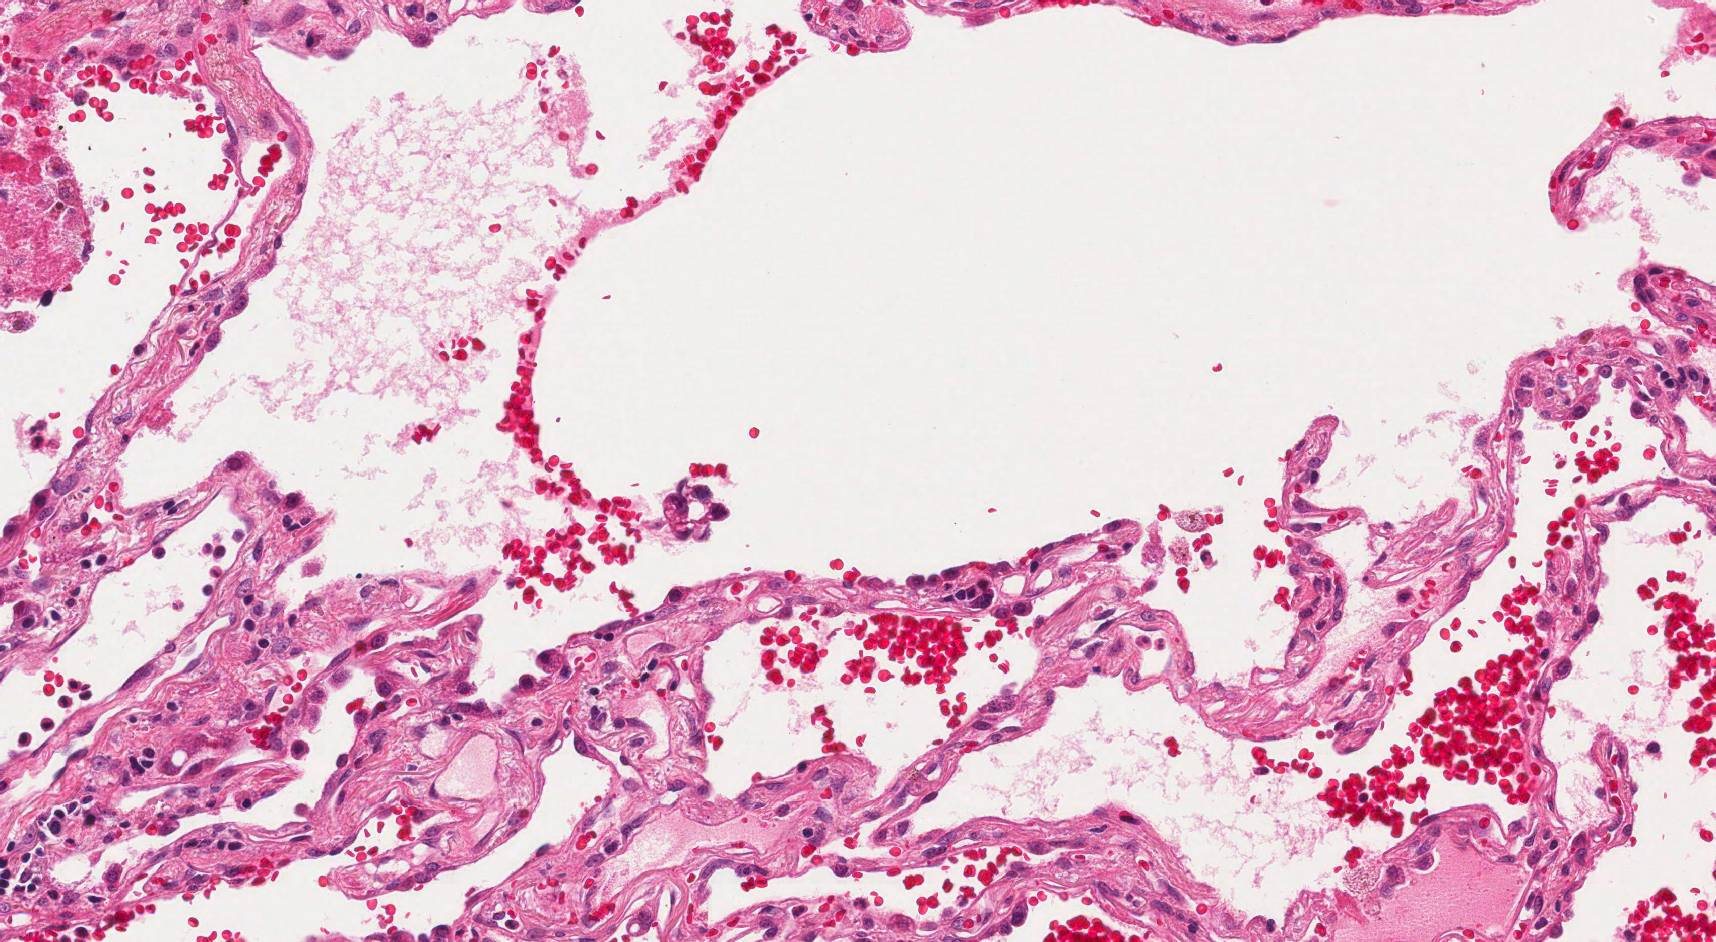stas: (663, 476, 733, 543)
